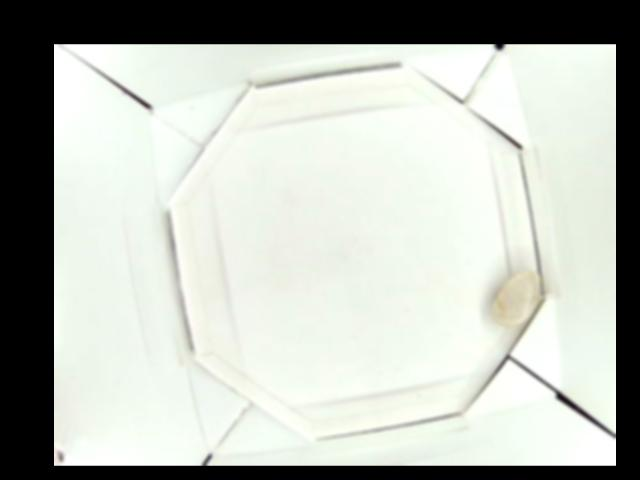Pebble: (490, 269, 536, 324)
